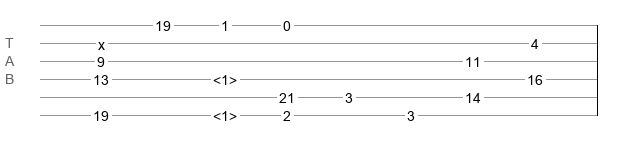0: (283, 18, 291, 28)
1: (221, 18, 229, 28)
11: (465, 54, 481, 64)
13: (93, 72, 109, 82)
14: (465, 90, 481, 100)
16: (527, 72, 543, 82)
19: (93, 108, 109, 118), (155, 18, 171, 28)
2: (283, 108, 291, 118)
21: (279, 90, 295, 100)
3: (345, 90, 353, 100), (407, 108, 415, 118)
4: (531, 36, 539, 46)
9: (97, 54, 105, 64)
harmonic: (213, 108, 237, 118), (213, 72, 237, 82)
x: (98, 37, 105, 45)
